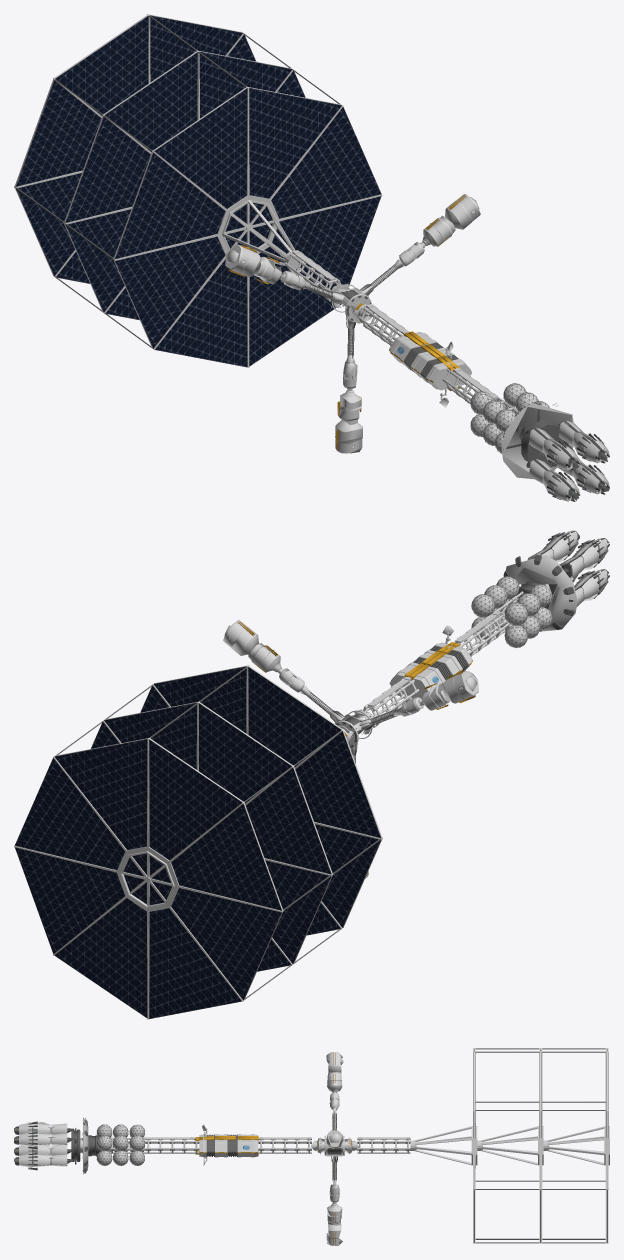
The model's file is satellite-transformed.glb.
3 views of the same model, one above another, from view 1: azimuth 30°, elevation 25°; view 2: azimuth 150°, elevation 25°; view 3: azimuth 270°, elevation 25° (orthographic). The views are drawn at different scales.
Parts seen in each view (by area): view 1: Object_2; view 2: Object_2; view 3: Object_2.
Part boxes in pixels (left/top/right/bottom): Object_2: left=14, top=14, right=609, bottom=501; Object_2: left=14, top=530, right=609, bottom=1019; Object_2: left=14, top=1048, right=609, bottom=1245.
Bounding box in the file's own units: 27.64 × 28.5 × 79.52.
1 material, 1 textured.
